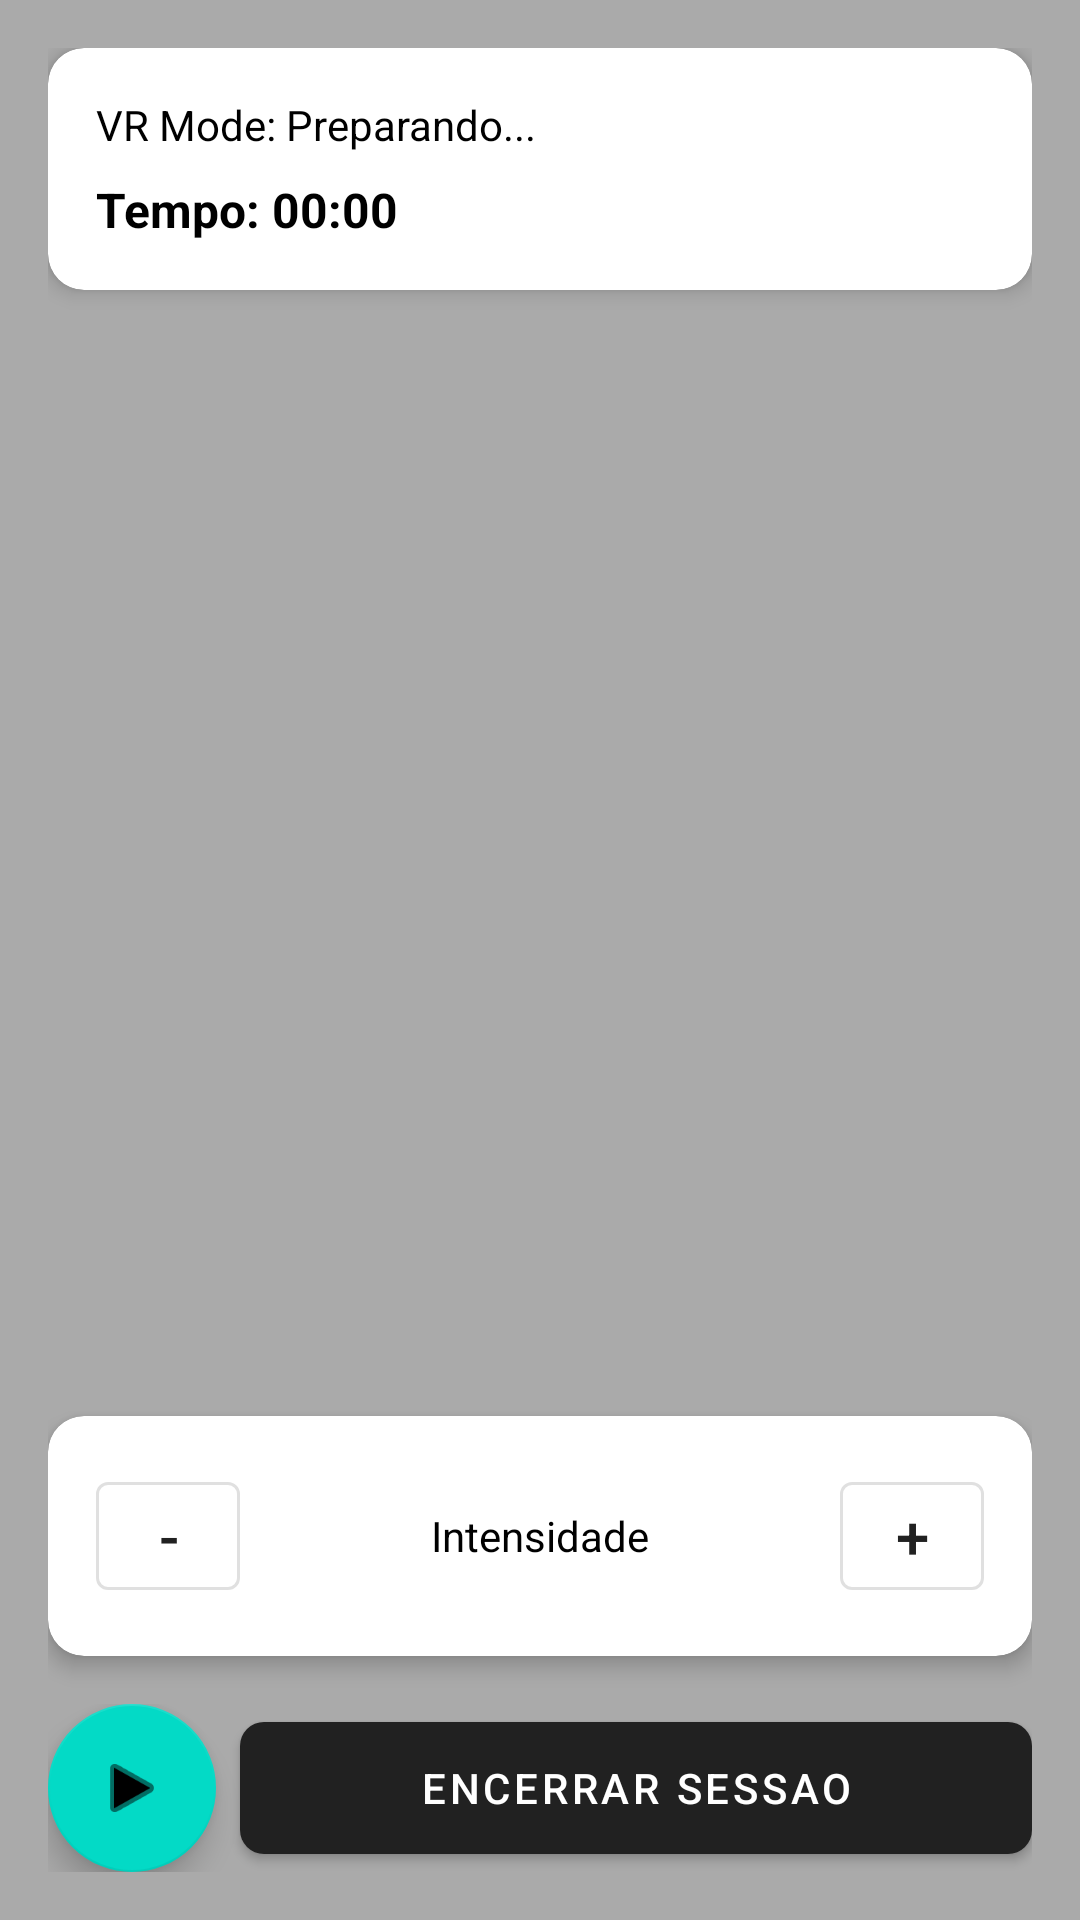

Locate icon controls on the screen. Image size 1080*1920, boxes as (left=x1, top=y1, right=x2, bottom=y2).
Play/Pause: (left=48, top=1704, right=216, bottom=1872)
